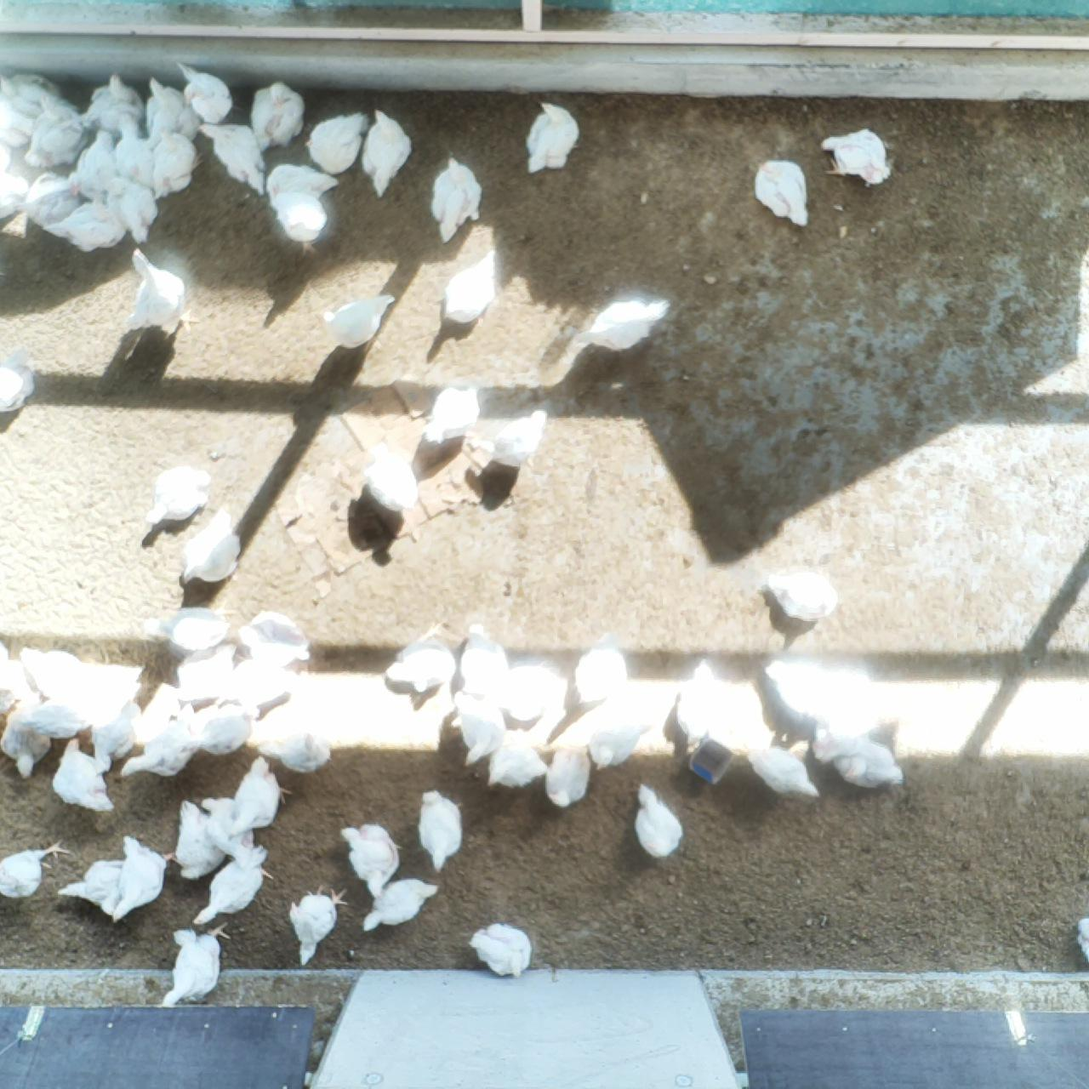chicken: (188, 841, 275, 928), (160, 917, 236, 1010), (125, 244, 200, 338), (108, 834, 177, 929), (175, 506, 249, 592), (382, 617, 458, 697), (121, 703, 200, 779), (161, 798, 231, 882), (225, 753, 289, 842), (198, 120, 270, 199), (355, 105, 416, 198), (24, 87, 90, 172), (47, 734, 116, 815), (235, 607, 315, 675), (356, 875, 444, 936), (289, 882, 351, 968), (574, 297, 672, 350), (411, 784, 468, 875), (567, 625, 628, 709), (341, 821, 404, 902), (445, 689, 512, 765), (140, 462, 217, 527), (0, 696, 60, 779), (75, 67, 146, 137), (427, 154, 482, 244), (40, 198, 128, 254), (267, 184, 331, 260), (818, 125, 894, 189), (57, 852, 125, 923), (747, 737, 821, 802), (810, 685, 871, 763), (464, 919, 536, 985), (139, 604, 231, 655), (0, 835, 71, 901), (66, 660, 144, 720), (360, 438, 421, 514), (761, 567, 837, 628), (148, 124, 208, 201), (751, 159, 815, 231), (674, 656, 722, 752), (19, 644, 97, 703), (175, 60, 243, 127), (456, 619, 509, 704), (19, 162, 81, 234), (215, 659, 305, 708), (631, 784, 688, 861), (63, 124, 117, 205), (440, 246, 496, 324), (323, 287, 393, 349), (247, 80, 307, 152), (305, 109, 368, 177), (525, 98, 578, 178), (137, 74, 200, 141), (255, 726, 336, 778), (761, 655, 832, 714), (420, 381, 483, 447), (488, 403, 550, 470), (485, 728, 552, 790), (589, 708, 653, 772), (12, 695, 98, 742), (88, 698, 141, 774), (104, 111, 155, 189), (104, 172, 159, 244), (501, 660, 562, 724), (199, 796, 255, 865), (172, 644, 235, 703), (542, 737, 594, 807), (834, 742, 904, 793), (0, 65, 63, 118), (262, 159, 340, 201), (0, 635, 41, 713), (195, 702, 263, 748), (0, 347, 39, 418), (0, 96, 35, 151), (0, 166, 31, 221), (1069, 910, 1089, 975)
